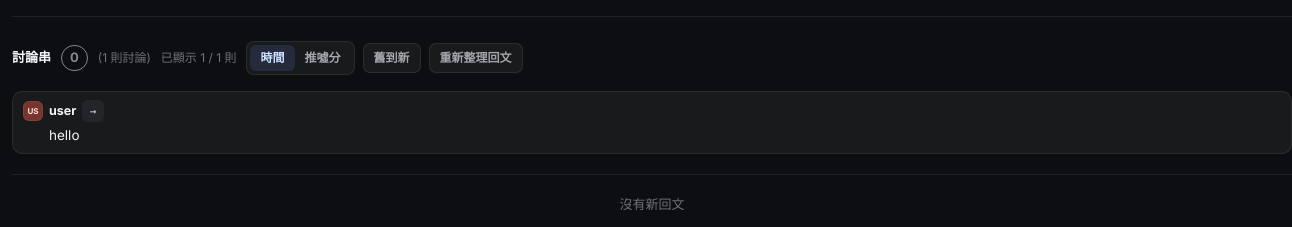
it: PushThread › shows a refresh animation state after clicking 重新整理回文
The image size is (1292, 227).
Click the button "重新整理回文".
click(476, 58)  # box 428,43 -> 522,73
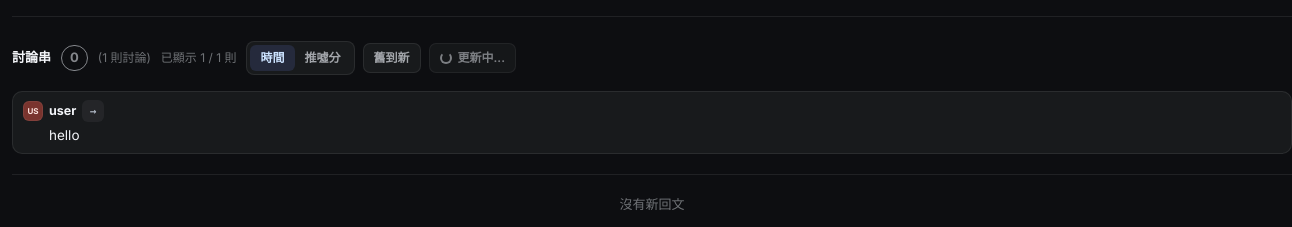
Result: the button "更新中..." is disabled at 428,43 -> 516,73
